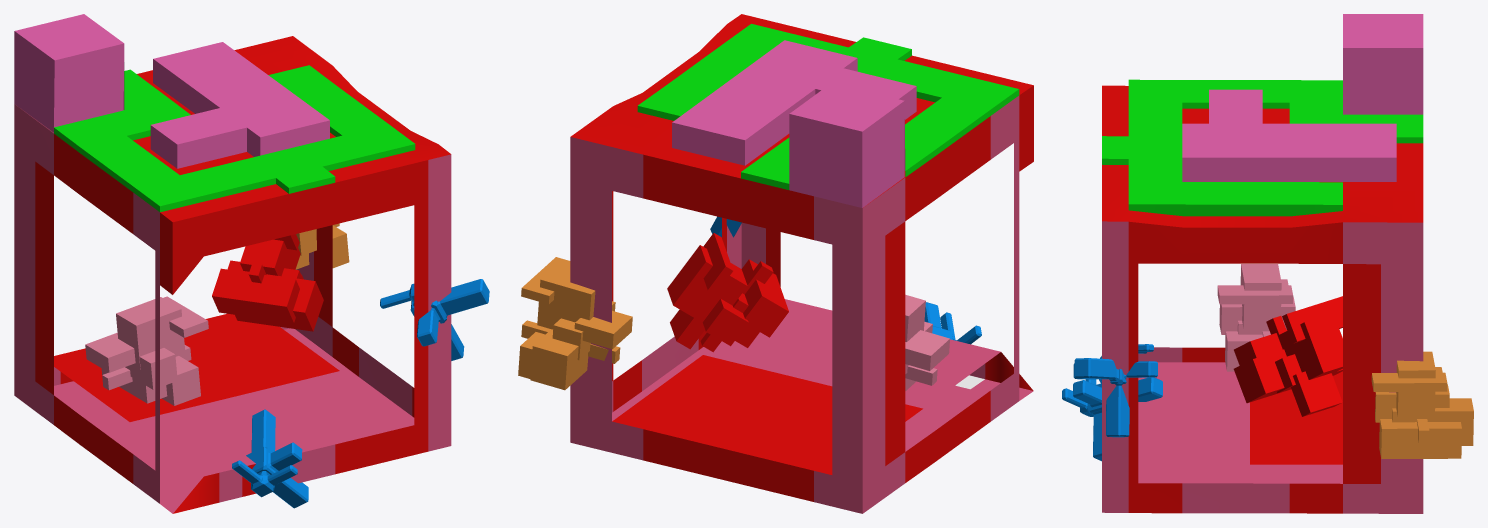
File: Level 3 FIXED-2.fbx
3 views of the same model, side by side, from view 1: azimuth 30°, elevation 25°; view 2: azimuth 150°, elevation 25°; view 3: azimuth 270°, elevation 25° (orthographic). The views are drawn at different scales.
Visible parts, largest first — view 1: Level 3, Weird Jumbled Cube, Weird Jumbled Cube.001, Cube.002, Cube.009, Weird Jumbled Cube.002; view 2: Level 3, Weird Jumbled Cube.001, Weird Jumbled Cube.002, Weird Jumbled Cube, Cube.002; view 3: Level 3, Weird Jumbled Cube.001, Weird Jumbled Cube.002, Weird Jumbled Cube, Cube.009, Cube.002.
Part boxes in pixels (x1=…): Level 3: x1=14, y1=14, x2=451, y2=513; Weird Jumbled Cube: x1=85, y1=296, x2=208, y2=405; Weird Jumbled Cube.001: x1=212, y1=234, x2=323, y2=331; Cube.002: x1=232, y1=409, x2=308, y2=508; Cube.009: x1=380, y1=279, x2=489, y2=360; Weird Jumbled Cube.002: x1=295, y1=223, x2=349, y2=269; Level 3: x1=570, y1=14, x2=1033, y2=513; Weird Jumbled Cube.001: x1=667, y1=233, x2=788, y2=352; Weird Jumbled Cube.002: x1=518, y1=257, x2=632, y2=390; Weird Jumbled Cube: x1=905, y1=294, x2=949, y2=390; Cube.002: x1=924, y1=302, x2=981, y2=344; Level 3: x1=1102, y1=14, x2=1423, y2=513; Weird Jumbled Cube.001: x1=1233, y1=296, x2=1342, y2=416; Weird Jumbled Cube.002: x1=1371, y1=351, x2=1473, y2=458; Weird Jumbled Cube: x1=1217, y1=264, x2=1295, y2=371; Cube.009: x1=1073, y1=344, x2=1157, y2=437; Cube.002: x1=1062, y1=377, x2=1162, y2=461.
Size of the model in its own units: 1402 by 1604 by 1538.
